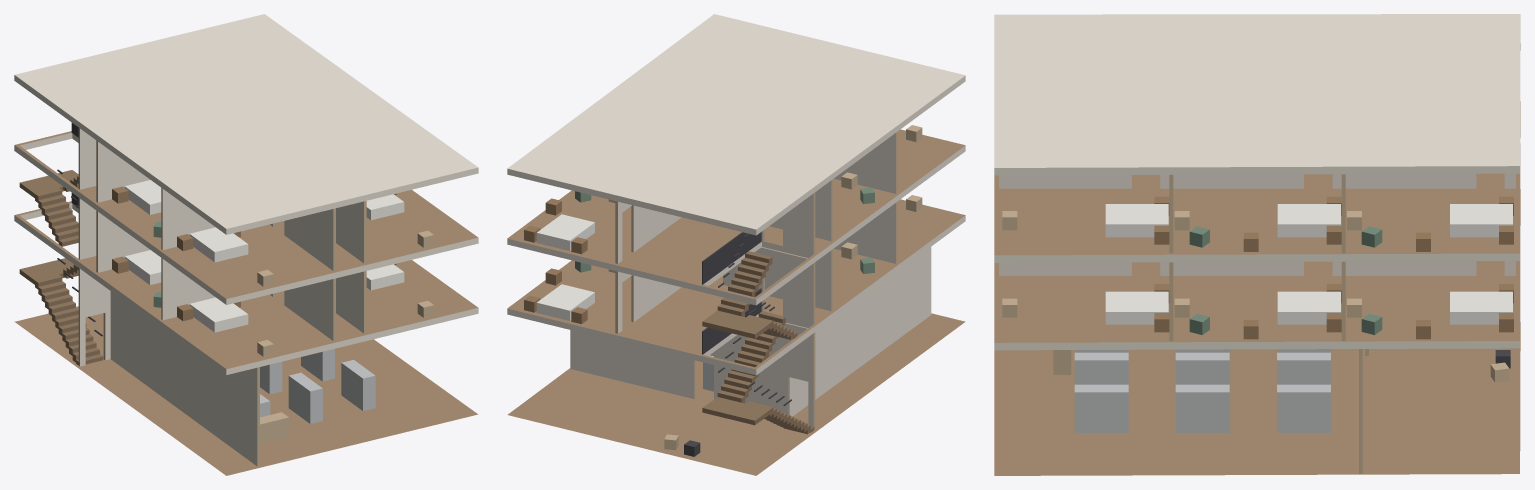
The model's file is interior.glb.
3 views of the same model, side by side, from view 1: azimuth 30°, elevation 25°; view 2: azimuth 150°, elevation 25°; view 3: azimuth 270°, elevation 25° (orthographic). The views are drawn at different scales.
Visible parts, largest first — view 1: slabs, partitions, stair, coarse-s0, coarse-s1, coarse-s2; view 2: slabs, partitions, stair, coarse-s1, coarse-s2, coarse-s0; view 3: slabs, coarse-s0, partitions, coarse-s2, coarse-s1.
Boxes of the visible parts, left/top/right/bottom form: slabs: left=14, top=14, right=478, bottom=475; partitions: left=78, top=128, right=366, bottom=466; stair: left=19, top=123, right=103, bottom=365; coarse-s0: left=260, top=349, right=375, bottom=444; coarse-s1: left=112, top=250, right=433, bottom=356; coarse-s2: left=112, top=180, right=433, bottom=286; slabs: left=507, top=14, right=965, bottom=475; partitions: left=570, top=132, right=931, bottom=429; stair: left=702, top=232, right=814, bottom=434; coarse-s1: left=524, top=195, right=922, bottom=324; coarse-s2: left=524, top=125, right=922, bottom=254; coarse-s0: left=664, top=355, right=713, bottom=456; slabs: left=994, top=14, right=1520, bottom=475; coarse-s0: left=1053, top=349, right=1510, bottom=432; partitions: left=999, top=173, right=1515, bottom=473; coarse-s2: left=1002, top=196, right=1513, bottom=251; coarse-s1: left=1002, top=284, right=1513, bottom=339.
Bounding box in the file's own units: 11.53 × 10.77 × 16.65.
